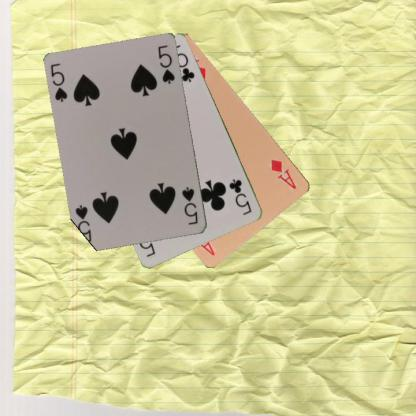5c: (226, 176, 254, 217)
5s: (48, 60, 69, 104), (179, 184, 199, 226)
Ad: (266, 156, 298, 191)
